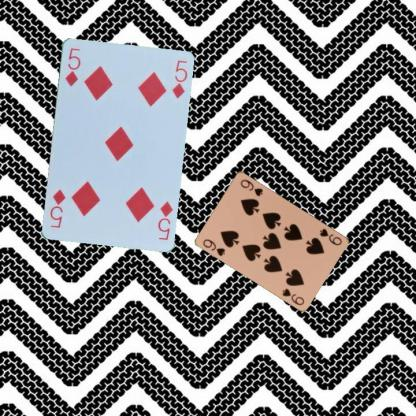5d: (62, 45, 82, 87), (155, 198, 174, 241)
9s: (200, 236, 226, 258), (317, 226, 343, 247)
